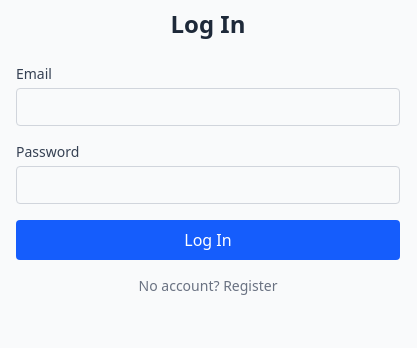
Scenario: Login page › shows error message on 401 response
The image size is (417, 348).
Type "bad@test.com" into the field with test id "email-input" at (208, 107), box [16,88,400,126]
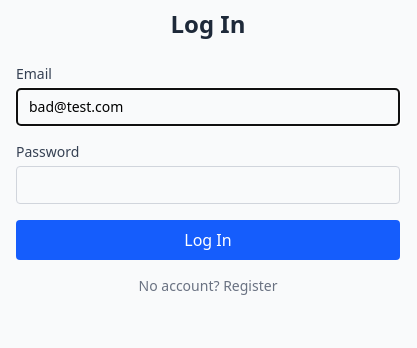
Type "wrong" into the password field with test id "password-input" at (208, 185), box [16,166,400,204]
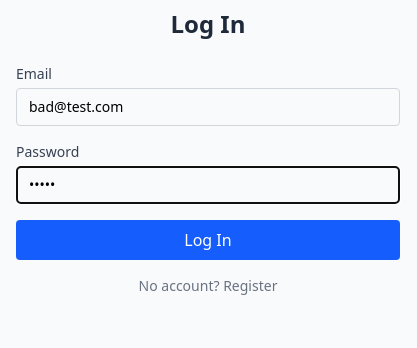
Submit the form with test id "login-form", box [16,64,400,260]
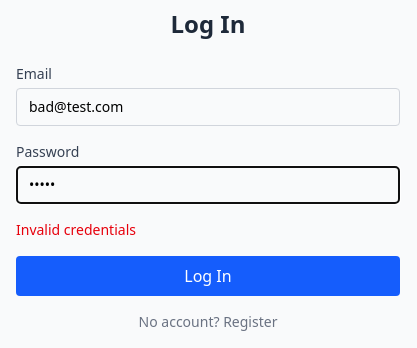
Check: the text with test id "login-error" reads "Invalid credentials", box [16,220,136,239]
